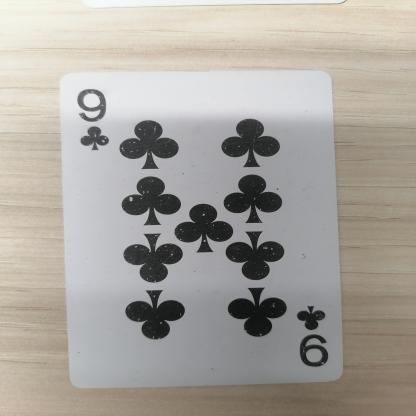9C: (63, 82, 118, 163), (284, 292, 338, 374)
